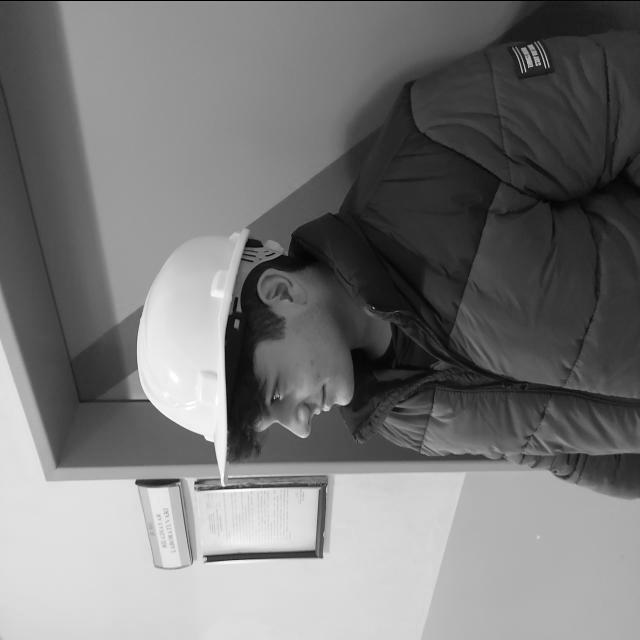construction helmet: (142, 227, 288, 467)
